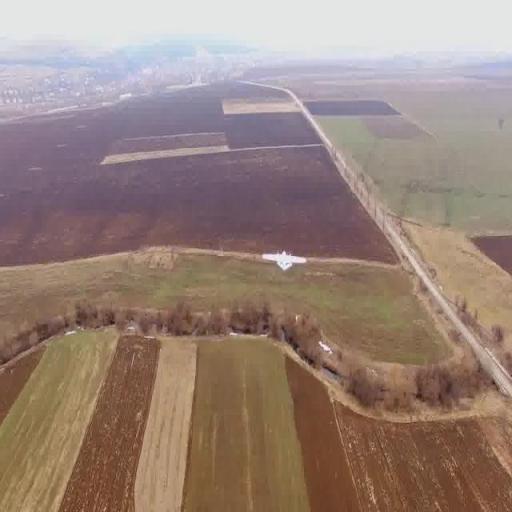uav: (262, 242, 312, 288)
